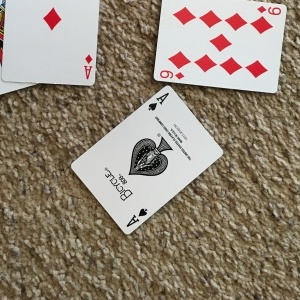card: (76, 84, 223, 233)
